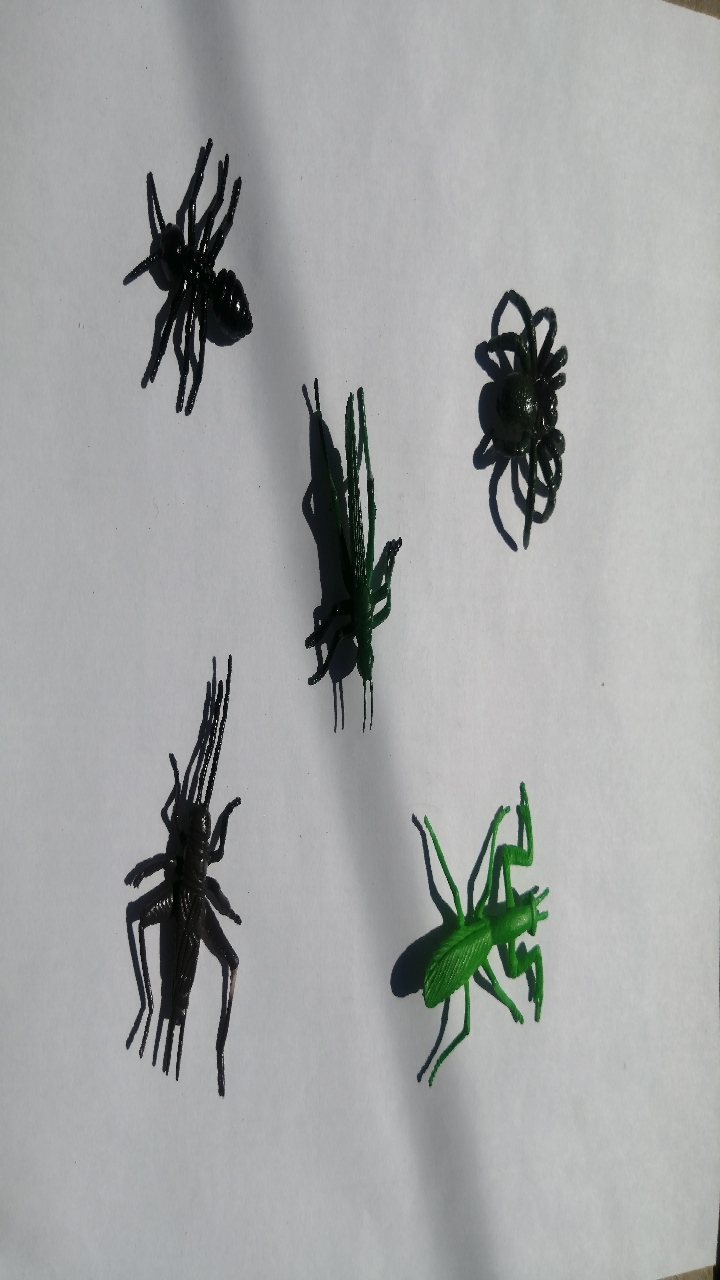intruso: (97, 631, 272, 1109), (377, 780, 594, 1109), (71, 119, 278, 415), (278, 359, 426, 748), (443, 259, 604, 551)
